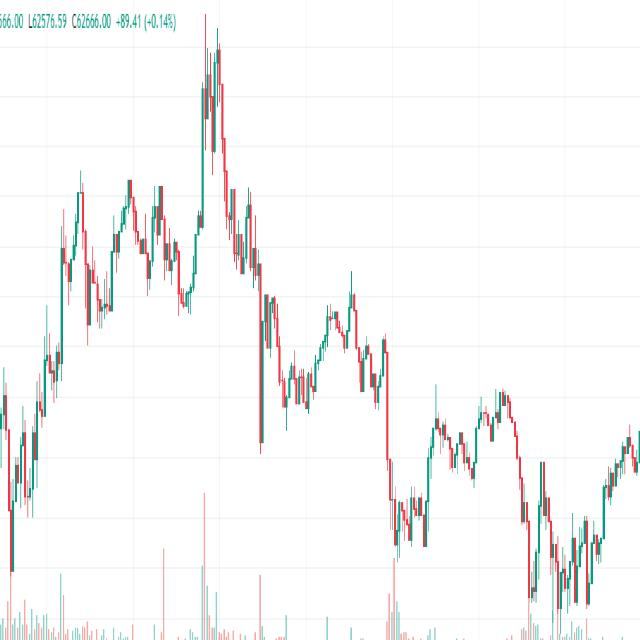Triple-Bottom: (544, 507, 610, 618), (381, 482, 438, 564), (275, 347, 324, 424)
